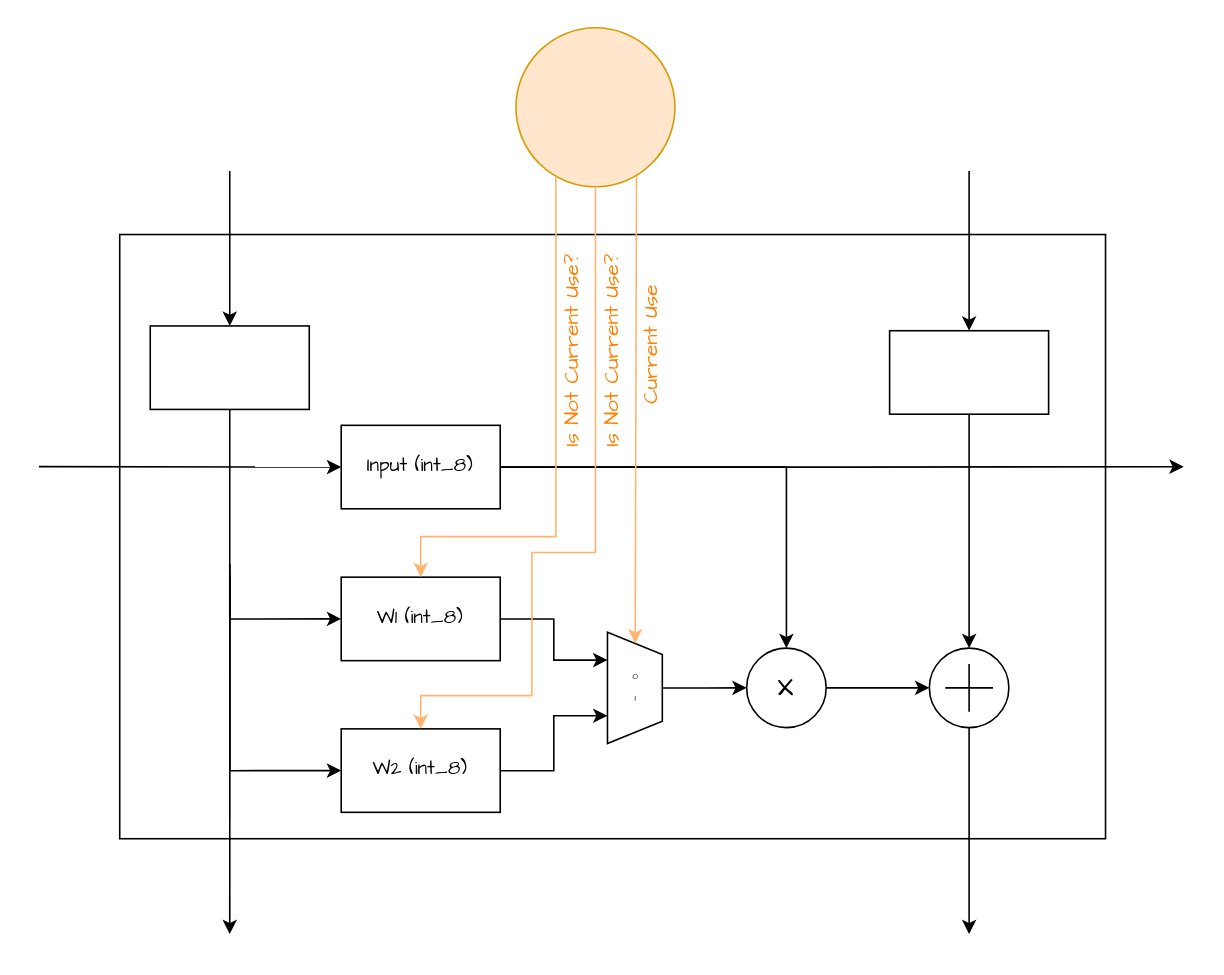
The diagram is 1224 pixels wide and 975 high, and some of its shapes have lost their labels. The box of each missing label's shape, as (x1, y1, x2, y2) in pixels:
Above (int_32): (888, 329, 1049, 414)
Control: (514, 26, 675, 187)
W_int (int_8): (149, 324, 309, 409)
